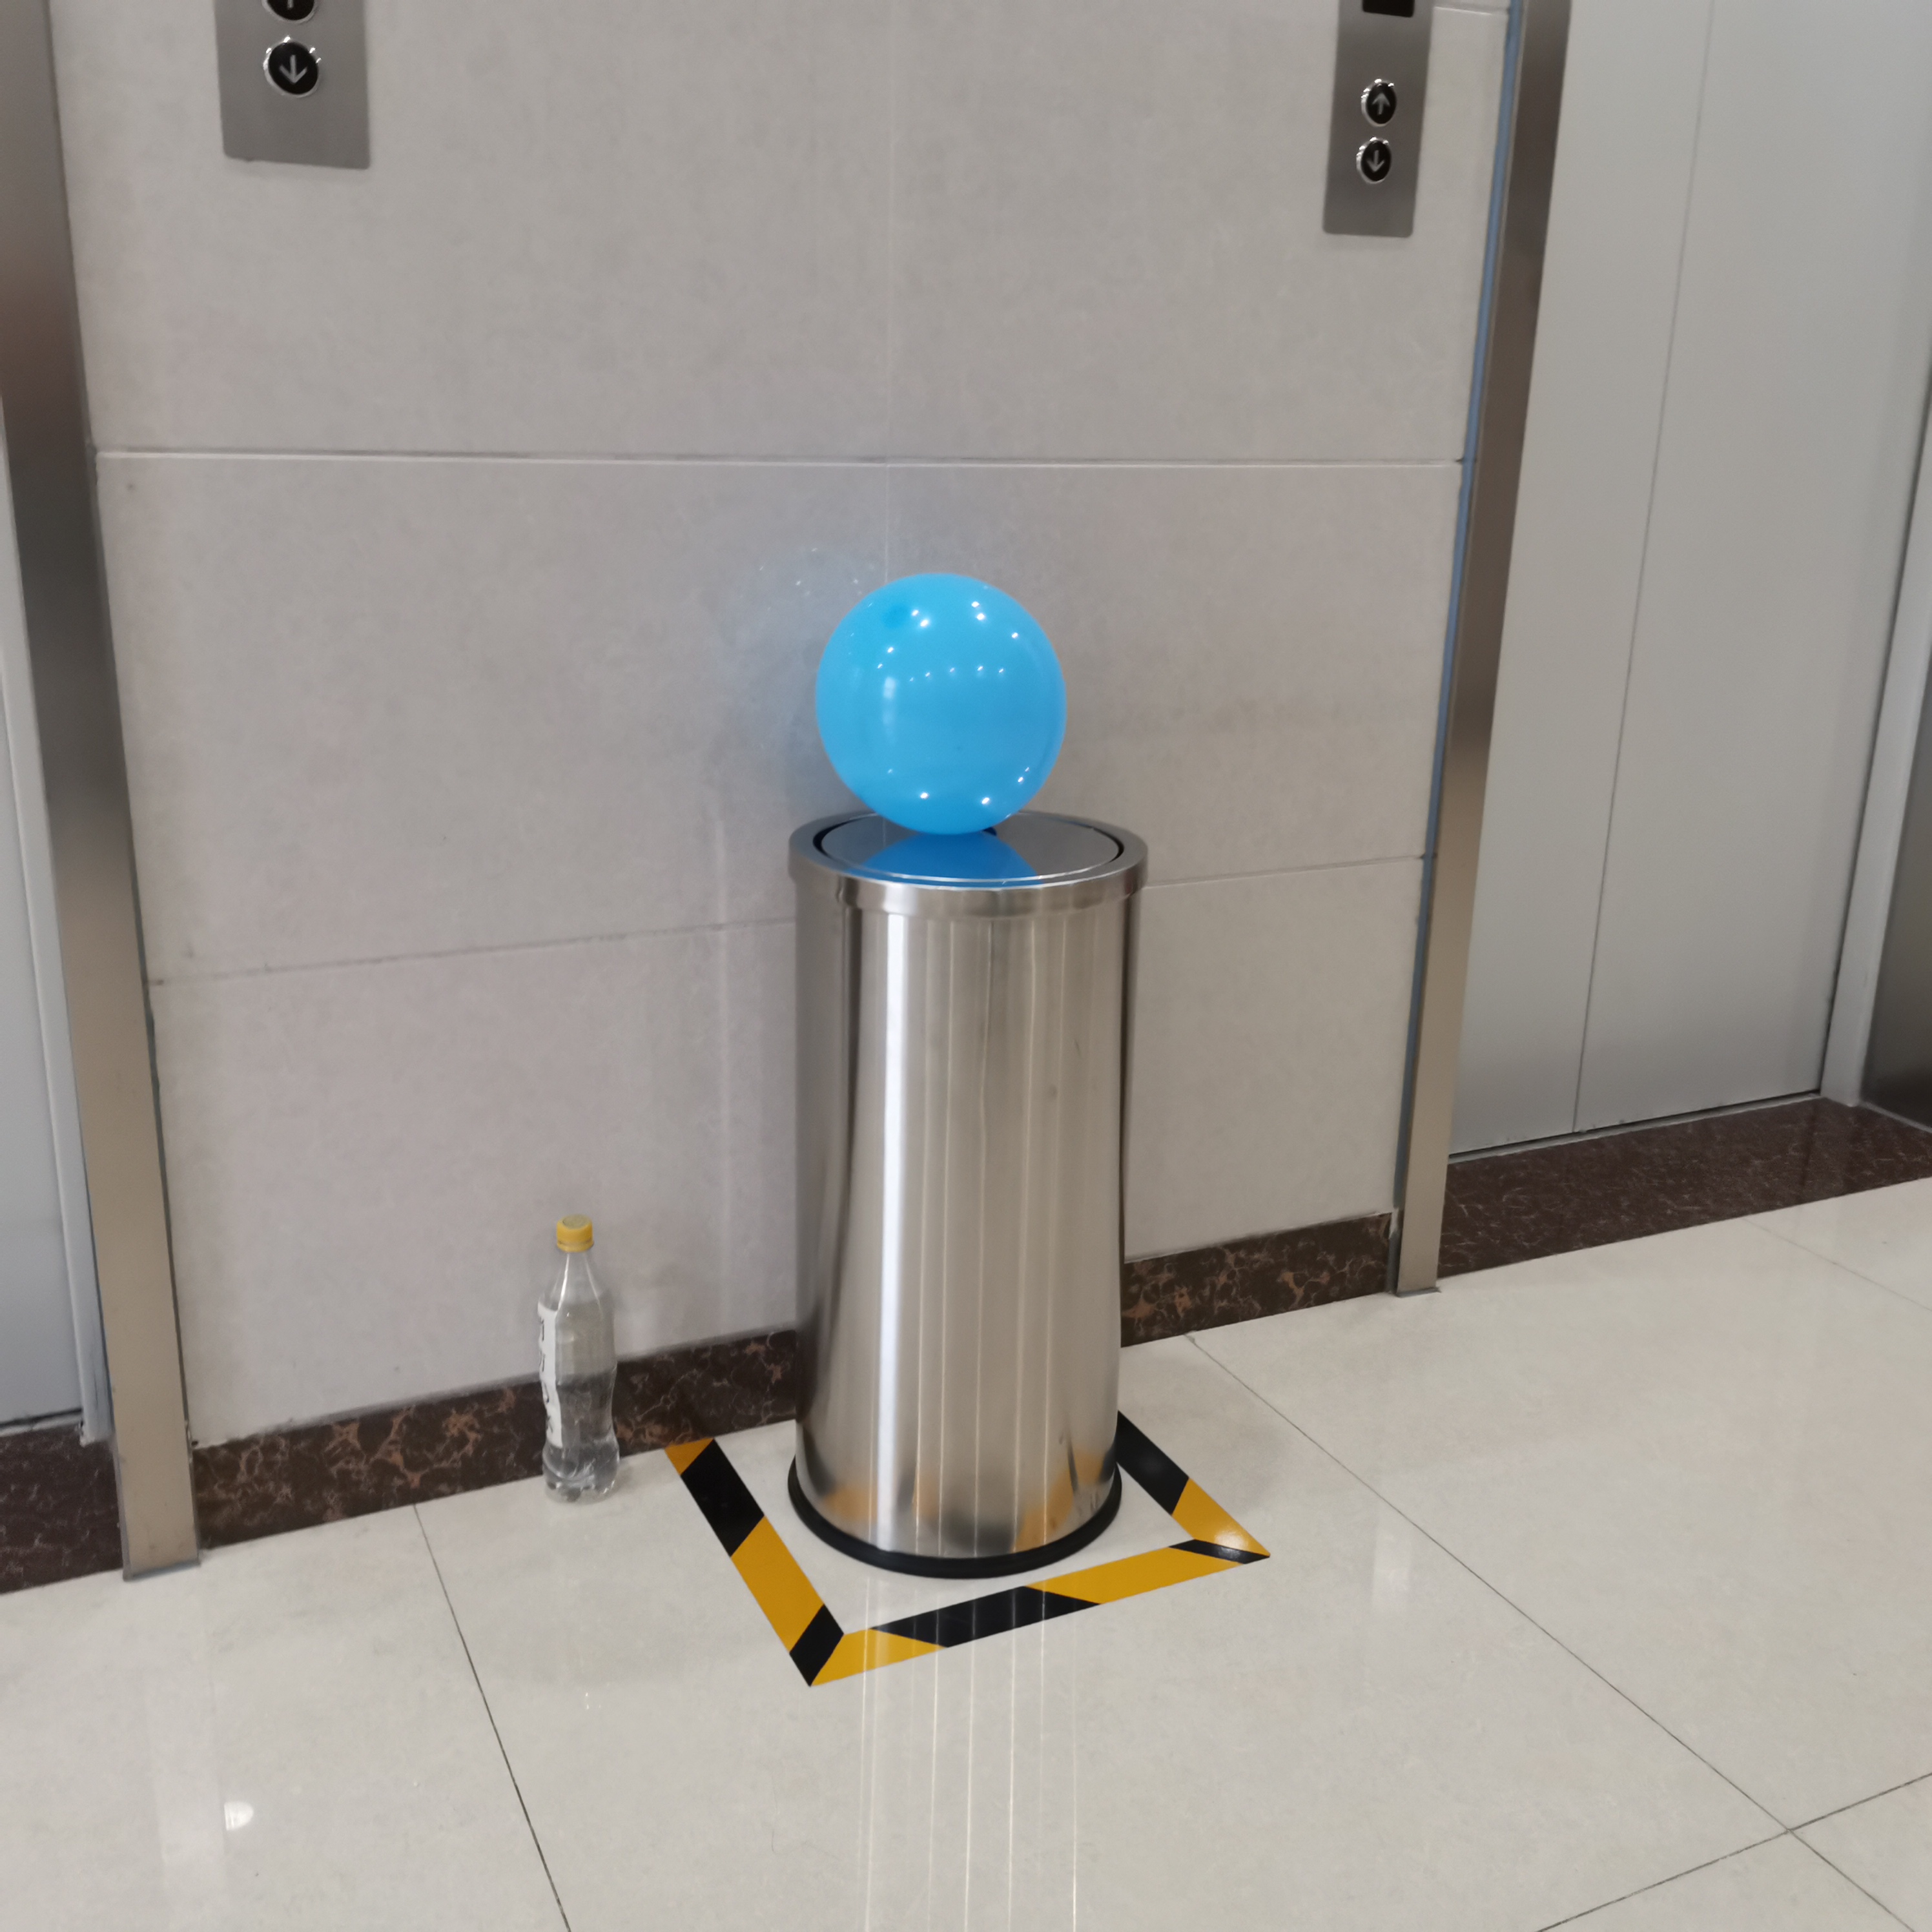balloon: (812, 575, 1070, 837)
